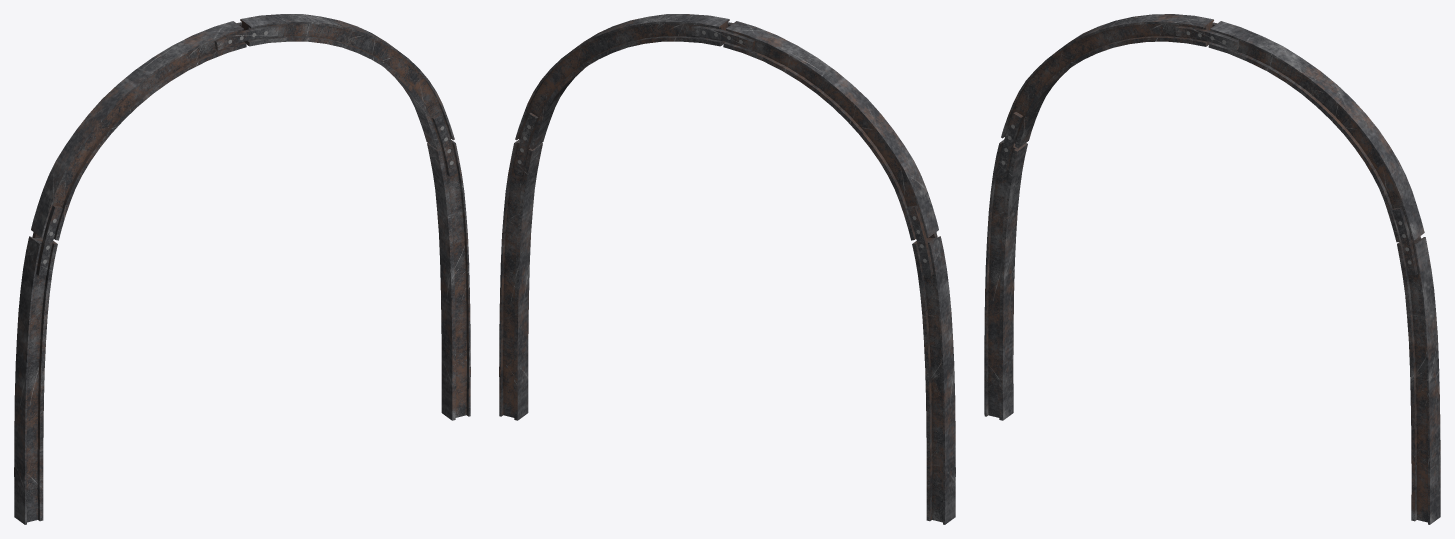
Rendered from piece.obj.
The picture shows the model from 3 angles, left to right: view 1: azimuth 30°, elevation 25°; view 2: azimuth 150°, elevation 25°; view 3: azimuth 330°, elevation 25°; orthographic projection.
Parts seen in each view (by area): view 1: SteelSupportBB; view 2: SteelSupportBB; view 3: SteelSupportBB.
Boxes of the visible parts, left/top/right/bottom form: SteelSupportBB: left=14, top=14, right=470, bottom=524; SteelSupportBB: left=499, top=14, right=955, bottom=524; SteelSupportBB: left=984, top=14, right=1440, bottom=524.
Size of the model in its own units: 2.71 by 2.57 by 0.1246.
1 material, 1 textured.
